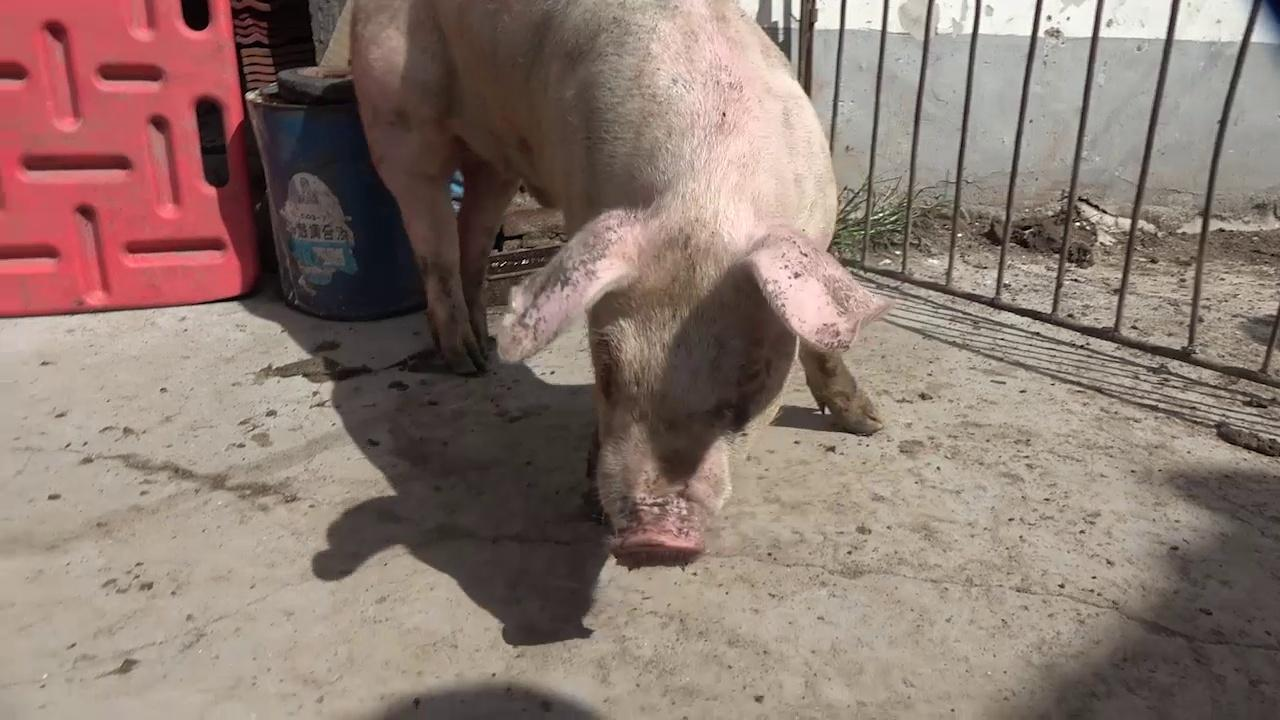Face: (493, 200, 883, 575)
